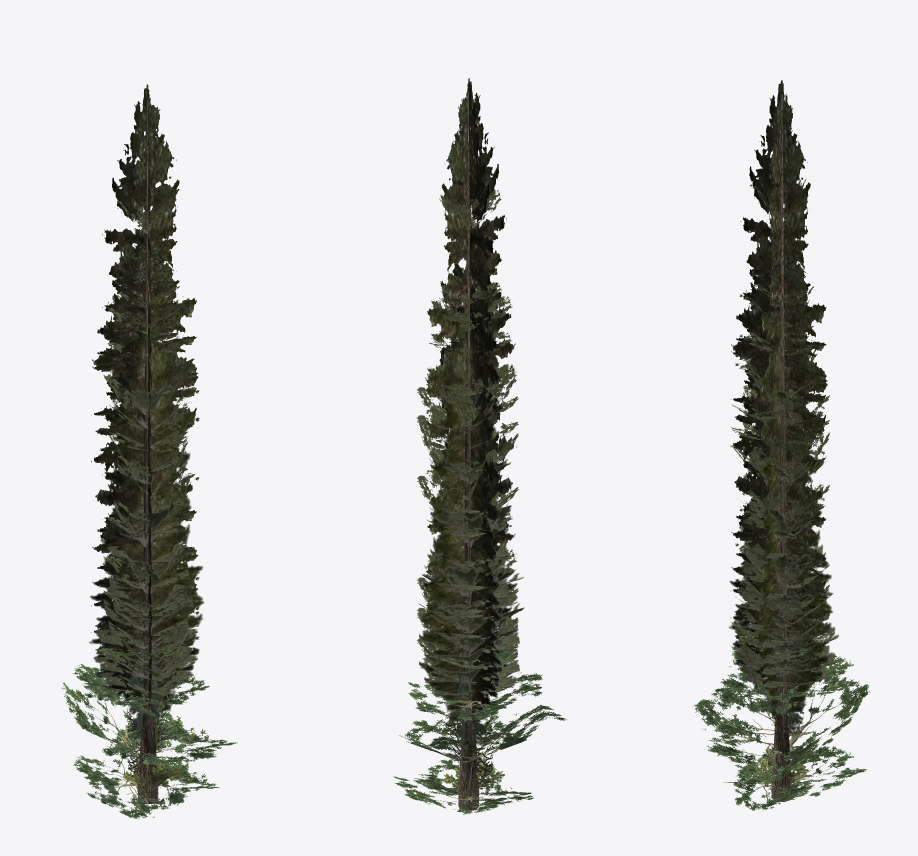
The model's file is forest-kit.glb.
3 views of the same model, side by side, from view 1: azimuth 30°, elevation 25°; view 2: azimuth 150°, elevation 25°; view 3: azimuth 270°, elevation 25° (orthographic).
Visible parts, largest first — view 1: pine-0, spruce-1, pine-1, spruce-0, boulder-0, spruce-2, pine-2, pine-3, fern-0, fern-1; view 2: pine-0, spruce-1, spruce-0, boulder-0, spruce-2, pine-1, pine-2, pine-3, fern-0, fern-1; view 3: pine-0, boulder-0, pine-1, spruce-1, spruce-0, pine-2, spruce-2, pine-3, fern-0, fern-1.
Boxes of the visible parts, x1,y1,x2,y2 form: pine-0: (91,84,199,793); spruce-1: (89,478,204,772); pine-1: (91,237,199,803); spruce-0: (102,314,191,755); boulder-0: (62,634,237,819); spruce-2: (96,527,197,775); pine-2: (91,406,199,797); pine-3: (91,481,199,798); fern-0: (127,640,170,739); fern-1: (123,753,183,793); pine-0: (416,78,518,799); spruce-1: (418,481,524,775); spruce-0: (430,313,511,761); boulder-0: (393,631,566,814); spruce-2: (424,521,518,779); pine-1: (416,267,518,810); pine-2: (416,423,518,804); pine-3: (416,456,518,805); fern-0: (450,646,487,748); fern-1: (443,756,504,803); pine-0: (730,80,829,790); boulder-0: (693,625,869,810); pine-1: (730,239,829,801); spruce-1: (729,478,838,756); spruce-0: (741,312,825,731); pine-2: (730,400,829,795); spruce-2: (735,533,832,759); pine-3: (730,454,829,796); fern-0: (752,656,803,734); fern-1: (752,746,809,795).
Bounding box in the file's own units: 8.62 × 26.95 × 7.99.
Materials: 7 (7 with a texture image).
